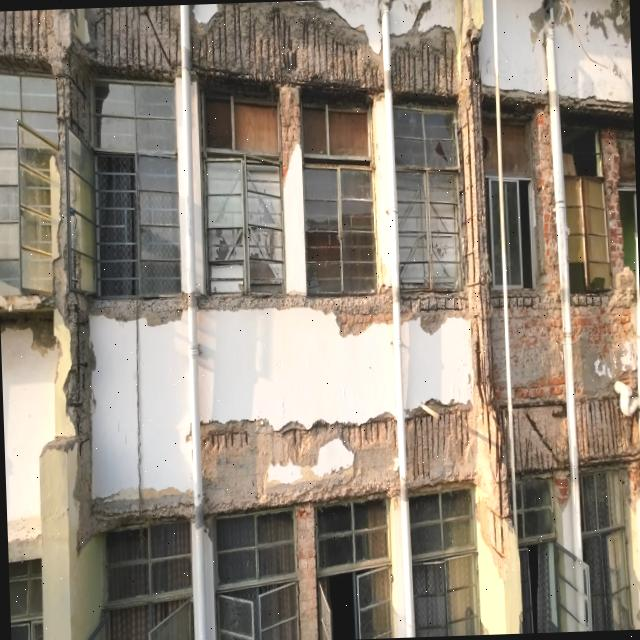Spalling: (202, 413, 397, 514), (191, 1, 382, 92), (456, 0, 493, 423), (199, 290, 390, 335), (406, 404, 500, 491), (88, 5, 180, 79), (392, 37, 454, 98), (579, 400, 629, 463), (0, 9, 50, 64), (514, 410, 554, 470), (401, 291, 468, 320), (91, 492, 138, 530), (139, 486, 191, 520), (140, 295, 186, 319), (100, 298, 129, 316)
exposed brickwork: (489, 113, 564, 407), (574, 305, 639, 399), (600, 129, 624, 287)
